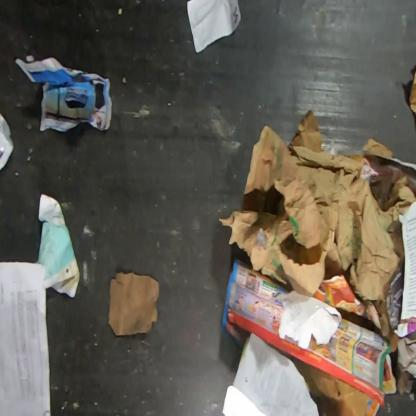cardboard: (108, 272, 160, 336), (409, 70, 415, 117)
soft_plastic: (0, 115, 14, 173)
